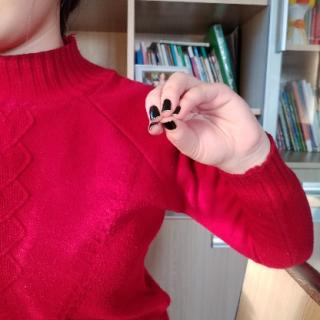HA: (139, 67, 258, 174)
